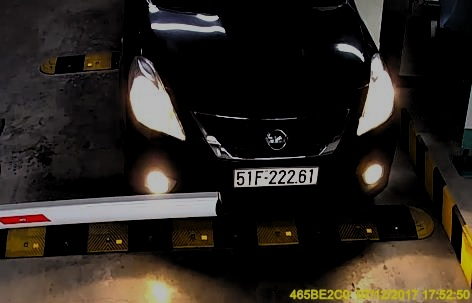plate: (228, 163, 324, 192)
